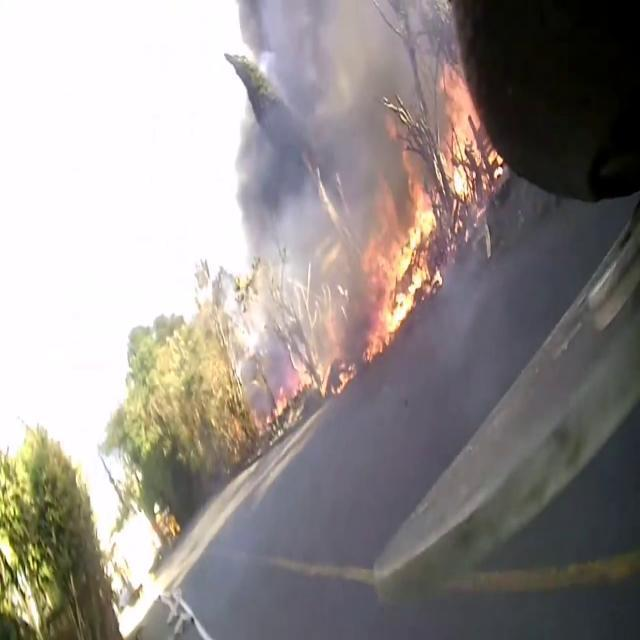Fire: (366, 56, 502, 343)
Smoke: (208, 0, 396, 382)
